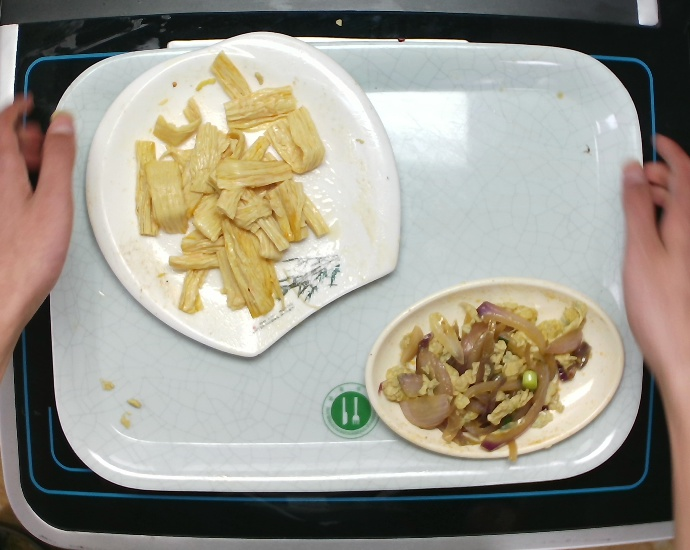JYsf-Mian_Pan: (84, 32, 412, 362)
JYsf-Tuo_Yuan_Wan: (364, 268, 625, 459)
